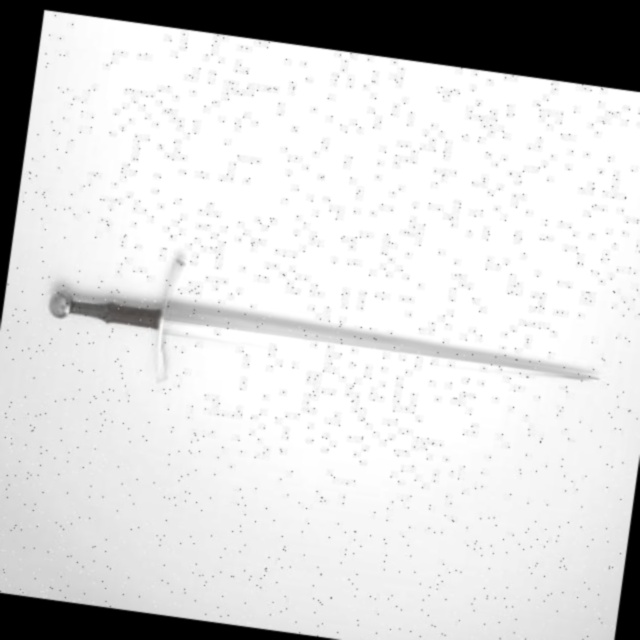Sharp-Object: (36, 276, 602, 405)
